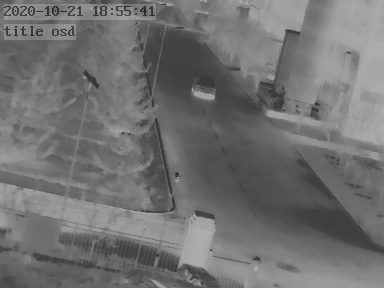vehicle: (189, 75, 216, 100)
